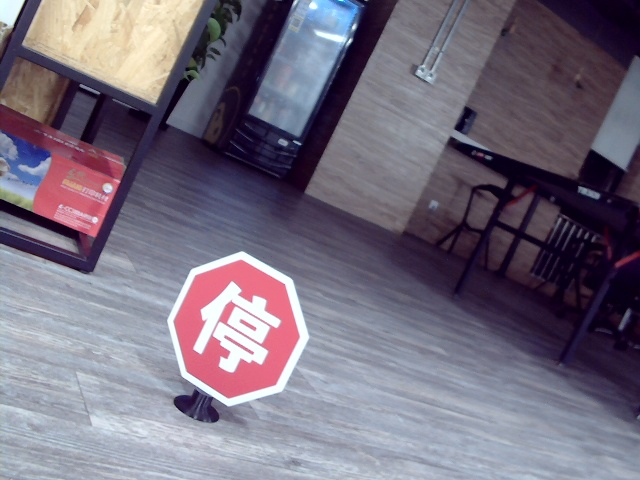stop: (196, 282, 279, 373)
